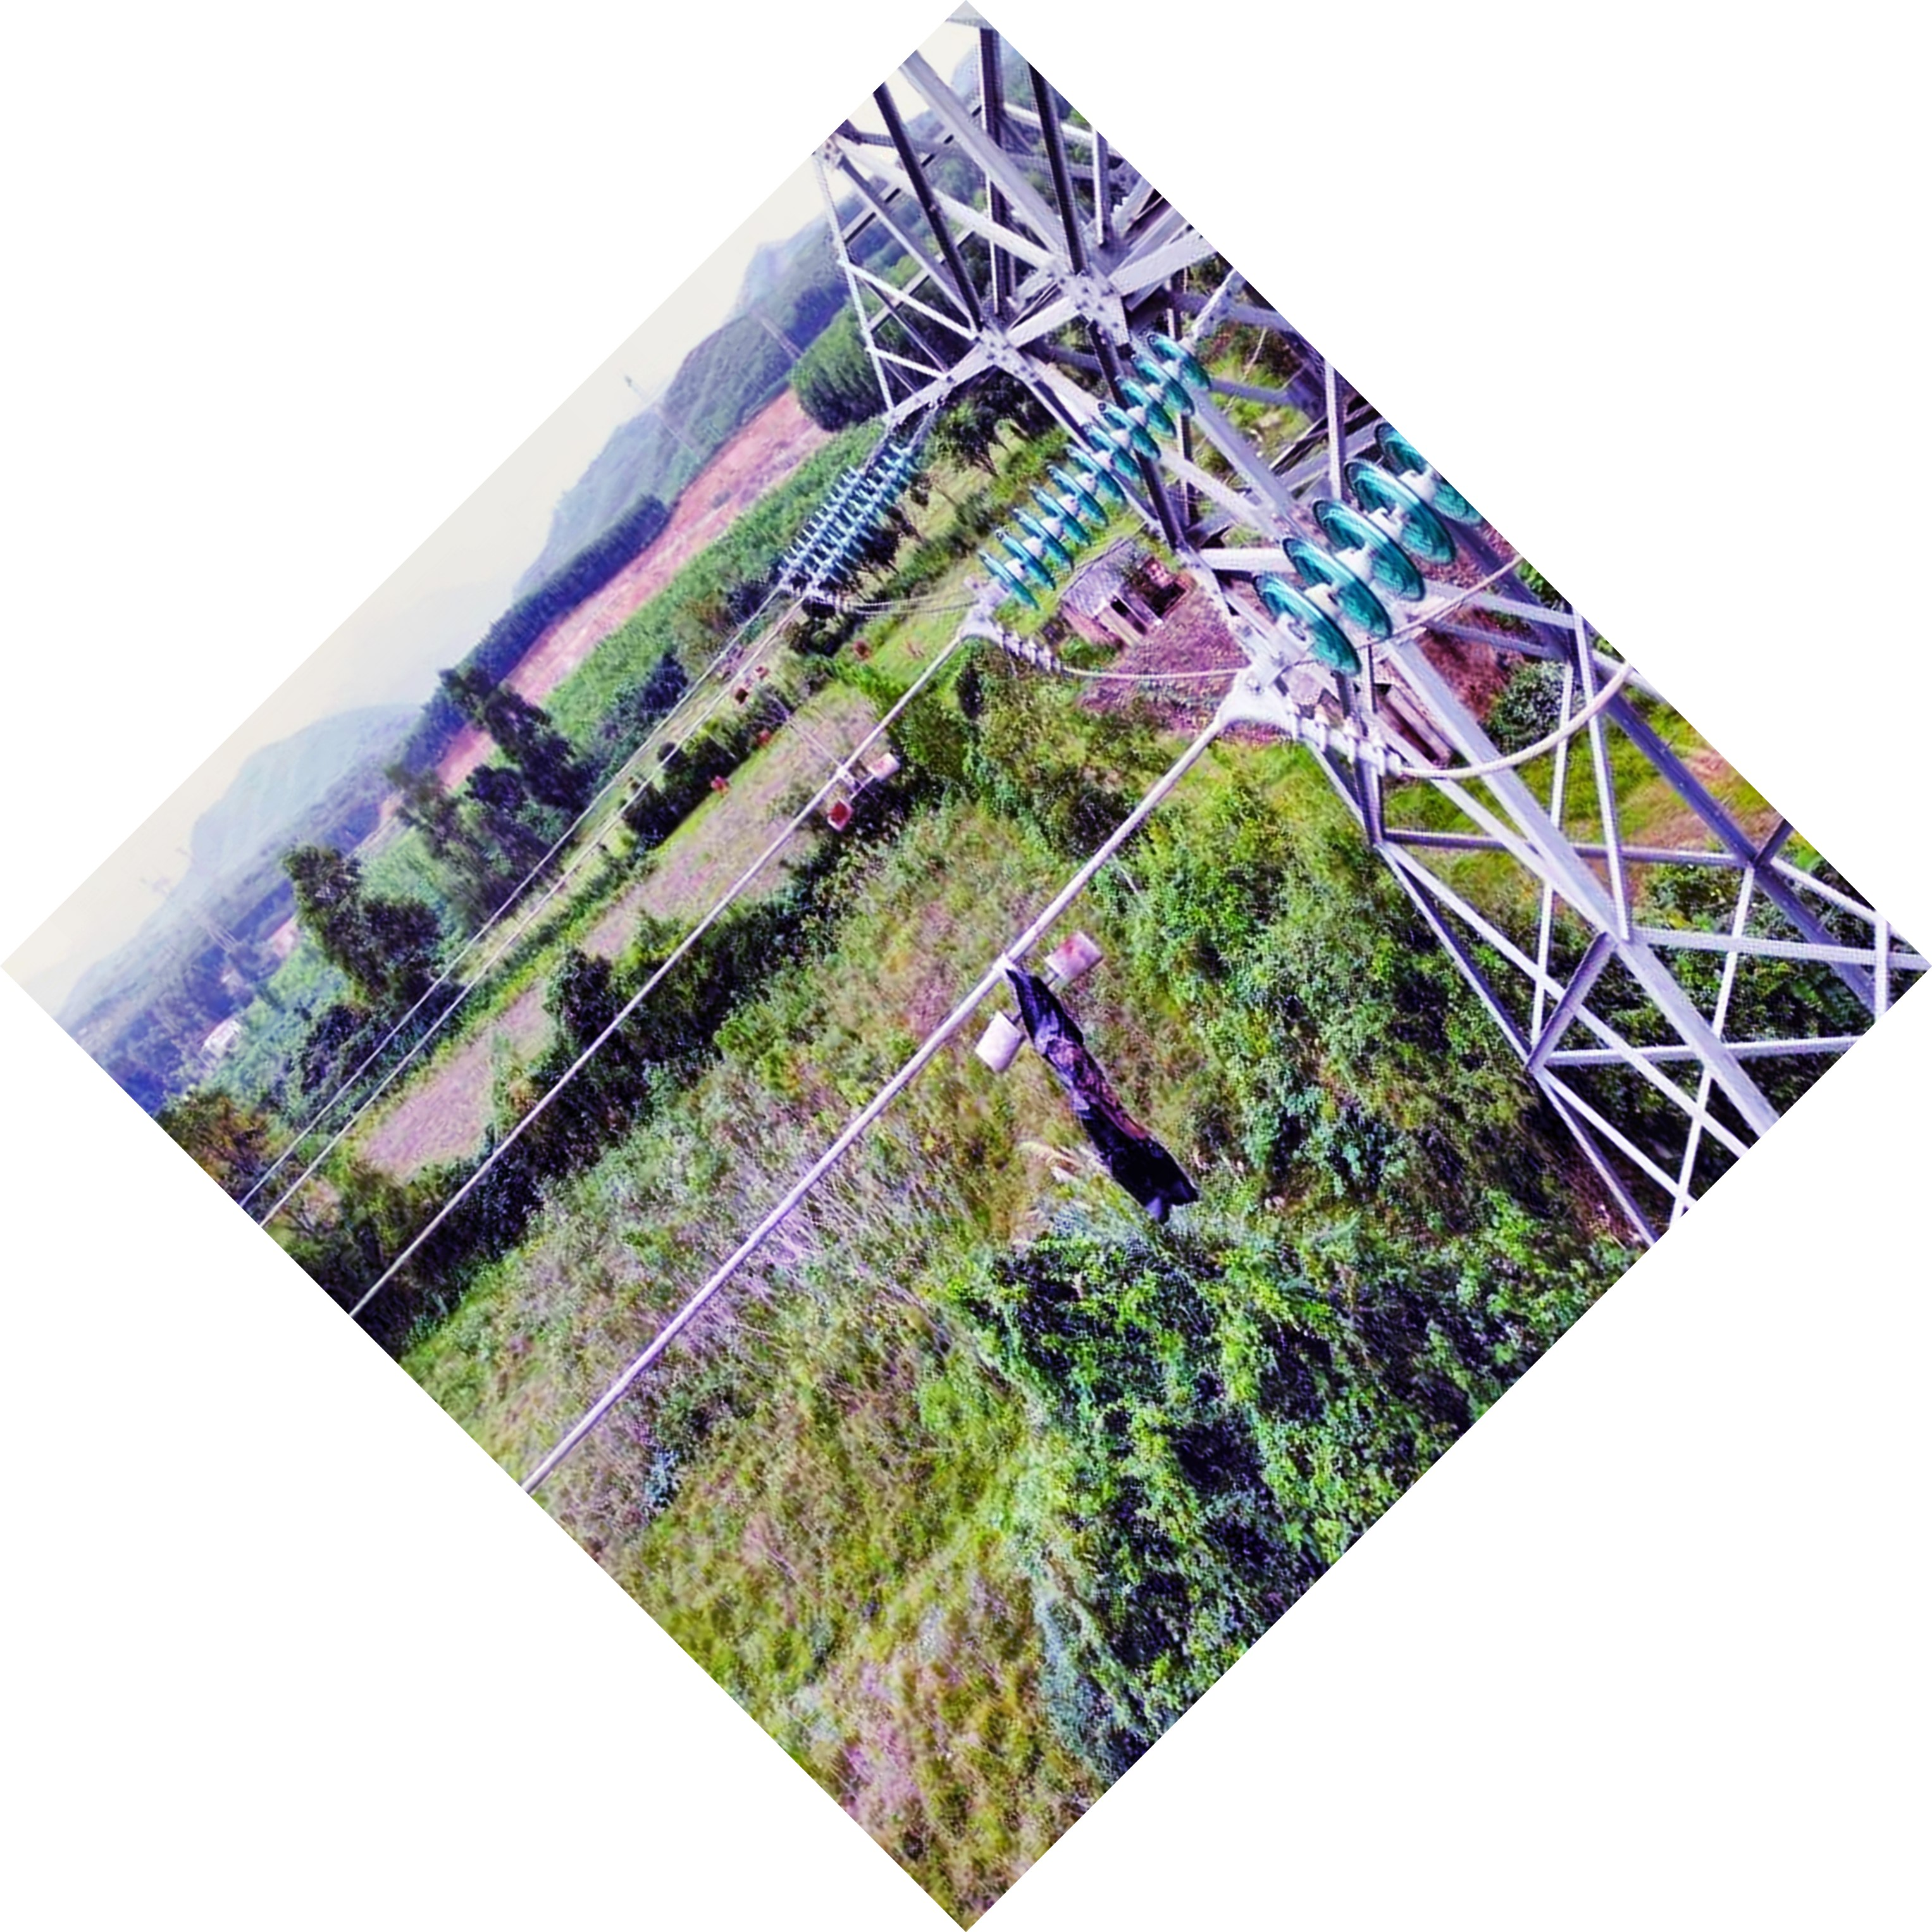wire foreign body: (948, 938, 1226, 1215)
